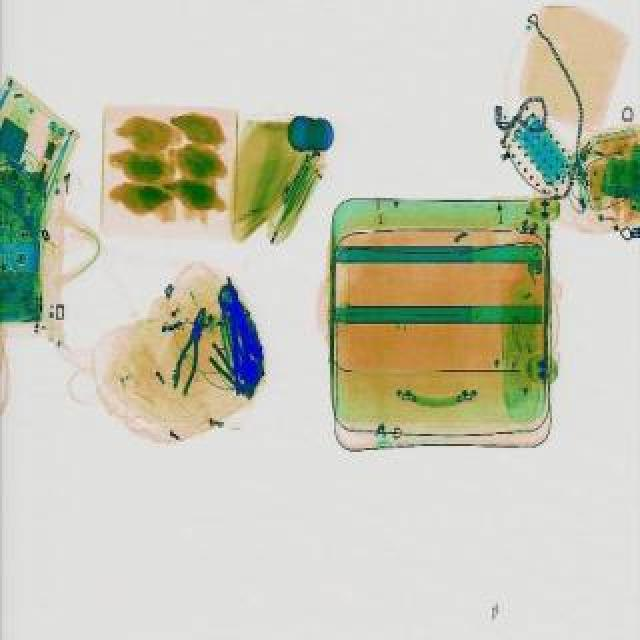wrench: (168, 308, 214, 398), (200, 346, 254, 400)
